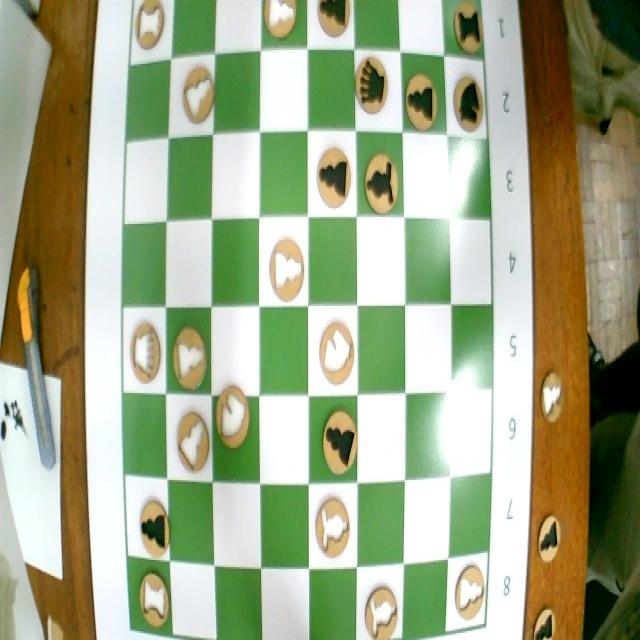chess-pieces: (214, 381, 256, 462), (311, 140, 354, 218), (313, 317, 358, 391), (125, 310, 165, 392), (360, 138, 402, 216), (355, 51, 398, 126), (171, 401, 212, 479), (264, 228, 306, 304), (169, 316, 209, 394), (319, 406, 359, 479), (177, 58, 214, 136), (133, 488, 173, 560), (448, 557, 488, 628), (313, 490, 351, 563), (359, 578, 402, 640), (134, 568, 173, 636), (402, 67, 442, 132), (449, 68, 486, 134), (131, 0, 170, 55), (261, 0, 303, 46), (450, 0, 485, 55), (314, 0, 355, 46)
